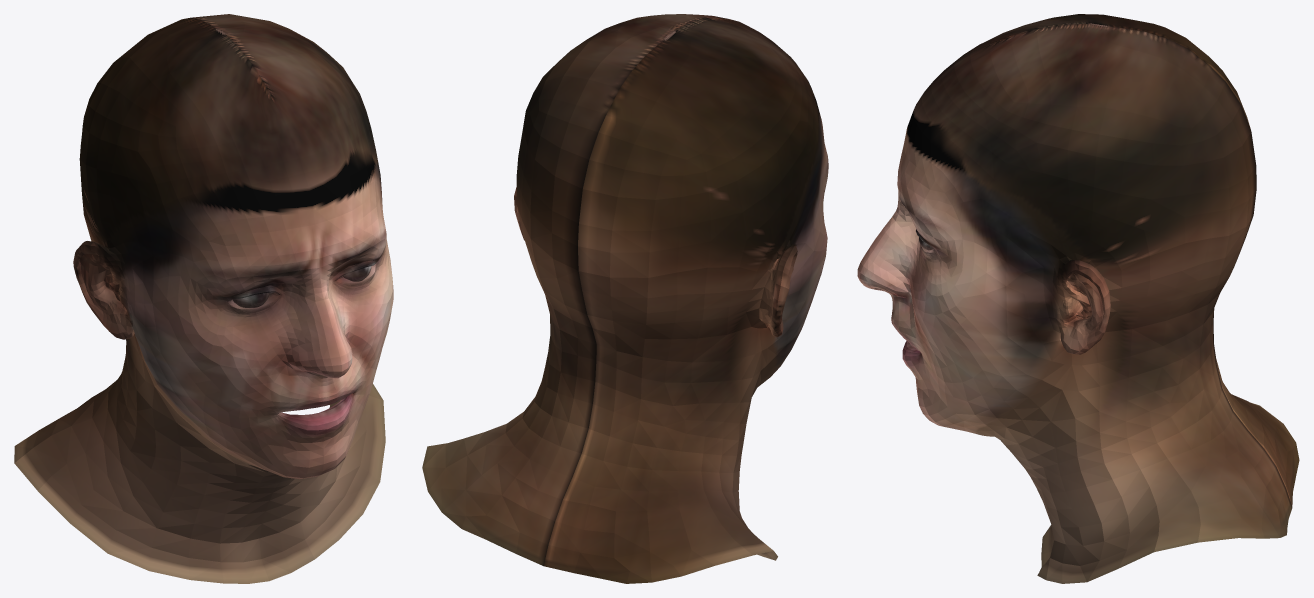
Rendered from face_video_frame0115.obj.
The picture shows the model from 3 angles, left to right: view 1: azimuth 30°, elevation 25°; view 2: azimuth 150°, elevation 25°; view 3: azimuth 270°, elevation 25°; orthographic projection.
Size of the model in its own units: 0.2181 by 0.3283 by 0.2464.
Materials: 1 (1 with a texture image).
